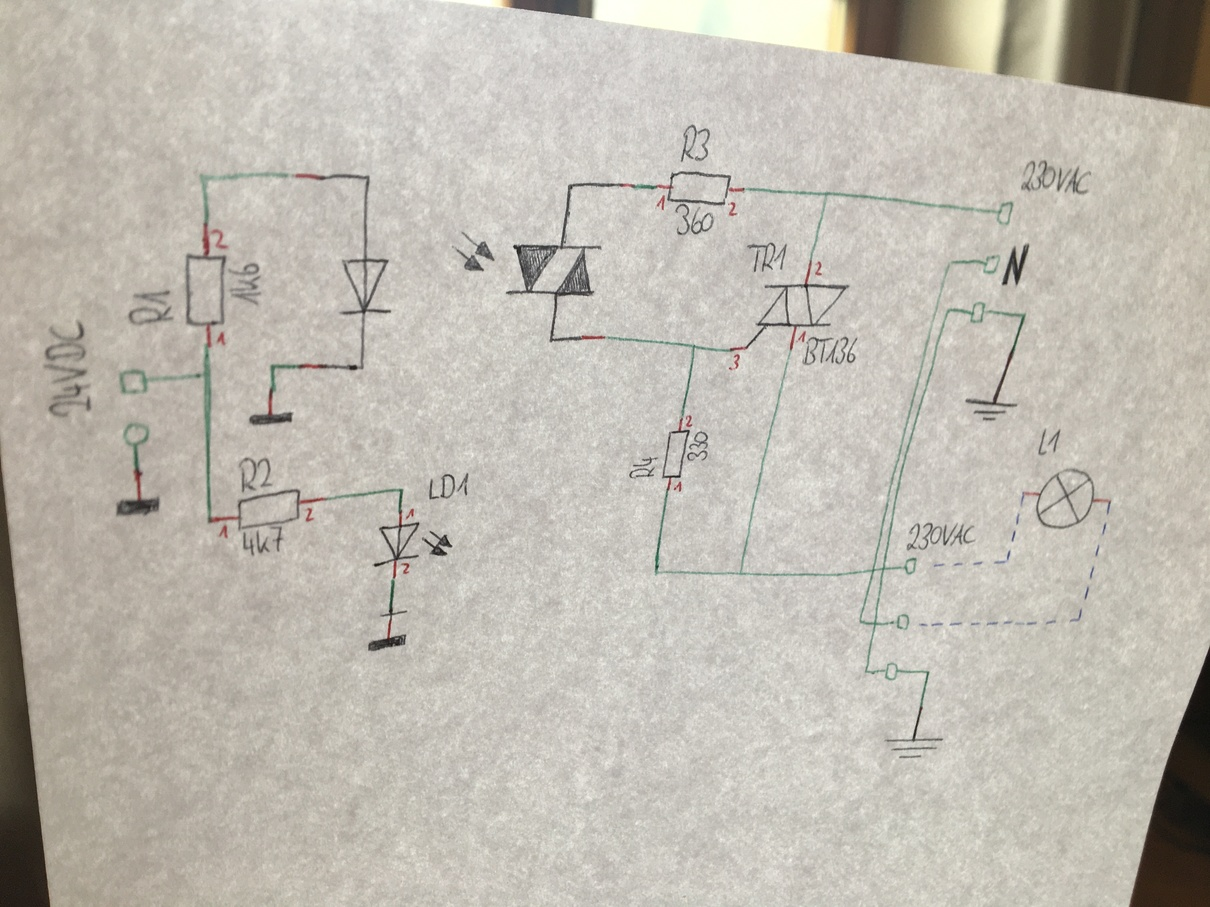crossover: (871, 618, 881, 629), (879, 563, 889, 573), (869, 565, 878, 575)
diode.light_emitting: (372, 520, 455, 569)
gnd: (881, 730, 946, 763), (963, 394, 1021, 424), (112, 491, 166, 521), (245, 407, 297, 431), (366, 629, 411, 656)
junction: (195, 167, 215, 190), (198, 366, 216, 381), (360, 170, 376, 185), (819, 188, 836, 202), (204, 512, 219, 527), (266, 359, 281, 373), (355, 359, 370, 373), (1018, 309, 1033, 322), (563, 180, 578, 193), (546, 333, 559, 348), (651, 564, 663, 580), (736, 566, 749, 580), (944, 257, 957, 270), (688, 340, 701, 353), (855, 614, 867, 628), (921, 666, 934, 678), (862, 665, 873, 679), (945, 304, 957, 316), (395, 484, 407, 495), (1105, 495, 1116, 506), (741, 343, 753, 353), (1074, 614, 1084, 625), (1019, 488, 1029, 498), (1002, 556, 1012, 565)
lamp: (1034, 466, 1096, 531)
optocoupler: (334, 229, 606, 320)
resistor: (182, 250, 229, 329), (234, 487, 304, 531), (665, 168, 733, 208), (660, 429, 691, 480)
terminal: (116, 366, 152, 397), (120, 420, 153, 449), (993, 200, 1017, 228), (981, 252, 1003, 277)
text: (42, 316, 95, 421), (1017, 158, 1095, 198), (904, 520, 978, 551), (125, 288, 177, 328), (226, 259, 265, 309), (802, 335, 860, 367), (743, 239, 790, 274), (676, 122, 713, 165), (999, 243, 1033, 289), (236, 455, 275, 494), (674, 202, 717, 237), (241, 524, 285, 558), (427, 469, 472, 502), (685, 429, 710, 463), (1036, 426, 1062, 458), (627, 455, 658, 480), (209, 226, 233, 252), (214, 329, 231, 349), (727, 352, 743, 373), (725, 200, 741, 219), (217, 523, 233, 542), (654, 193, 668, 213), (303, 506, 316, 524), (813, 259, 824, 278), (404, 506, 417, 521), (684, 413, 696, 428), (672, 480, 684, 494), (796, 329, 807, 344), (400, 560, 411, 575)
triac: (751, 280, 853, 341)
